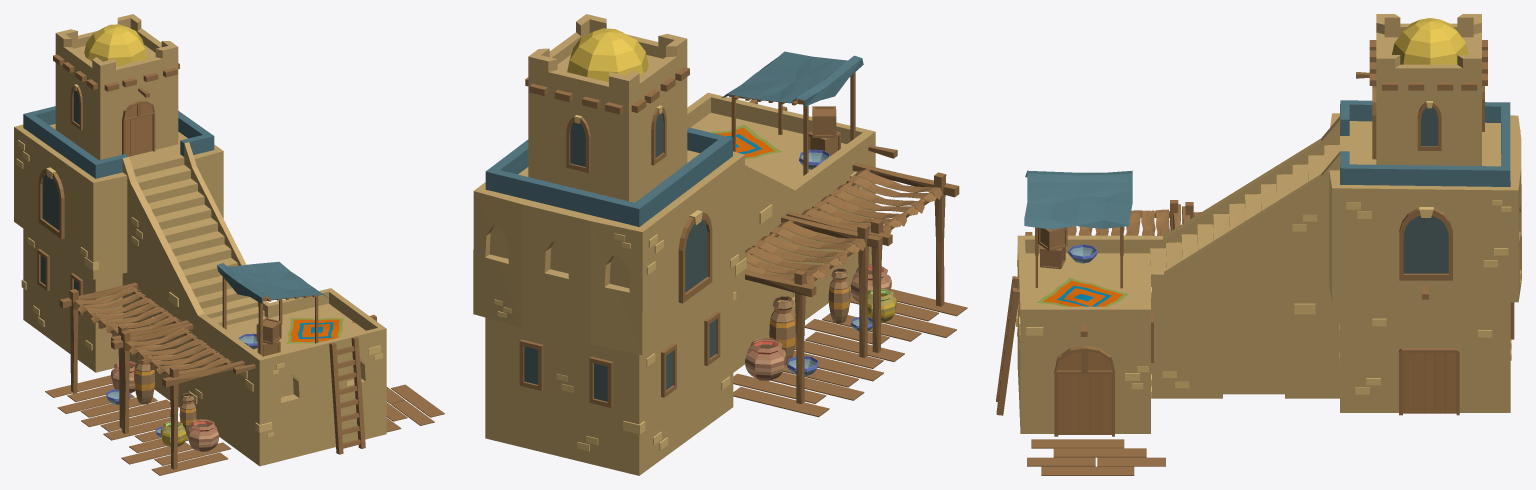
Rendered from SL_House.fbx.
The picture shows the model from 3 angles, left to right: view 1: azimuth 30°, elevation 25°; view 2: azimuth 150°, elevation 25°; view 3: azimuth 270°, elevation 25°; orthographic projection. The views are drawn at different scales.
Parts seen in each view (by area): view 1: SL_House4; view 2: SL_House4; view 3: SL_House4.
Part boxes in pixels (box(x1,y1,x2,y2)): SL_House4: box(14, 14, 444, 475); SL_House4: box(473, 14, 967, 475); SL_House4: box(996, 14, 1521, 475).
Size of the model in its own units: 1526 by 1530 by 2023.
